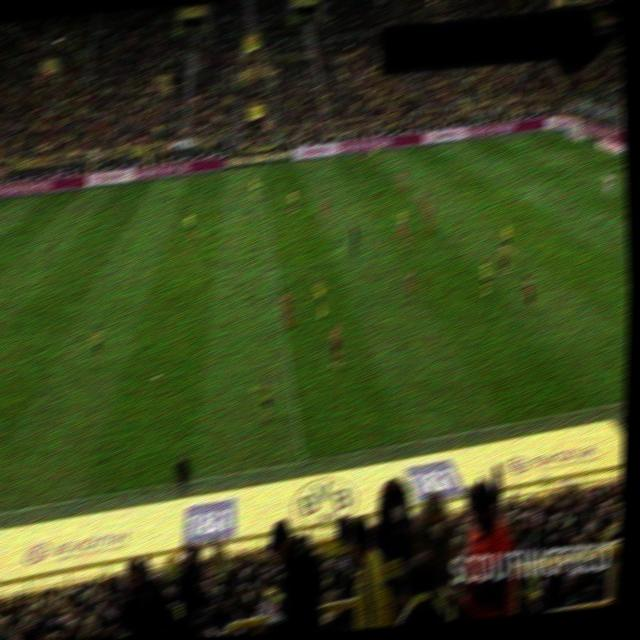bigarea_top_inner: (489, 153, 508, 167), (4, 216, 20, 227)
bigarea_top_outter: (587, 143, 602, 153)
bottom_arc_area_intersection: (594, 209, 609, 220)
corner: (543, 125, 559, 137)
halfcircle_bottom: (267, 264, 281, 276)
halfcircle_top: (259, 207, 273, 217)
midline_bottom_intersection: (293, 453, 311, 470)
midline_top_intersection: (252, 161, 267, 172)
smallarea_top_inner: (598, 162, 614, 174)
top_arc_area_intersection: (530, 176, 545, 187)
